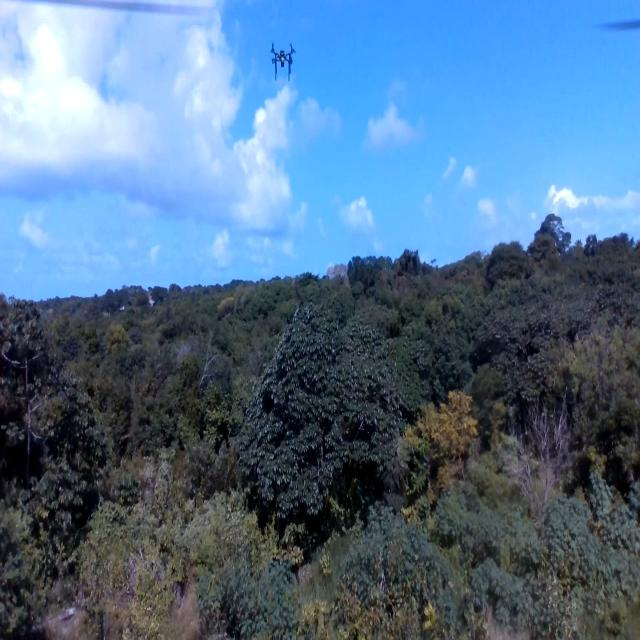-uav-: (259, 36, 308, 90)
